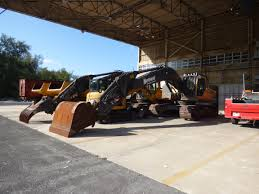excavator: (50, 69, 218, 137)
